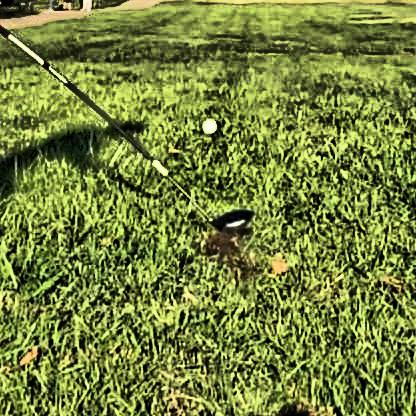golfball: (199, 116, 214, 131)
